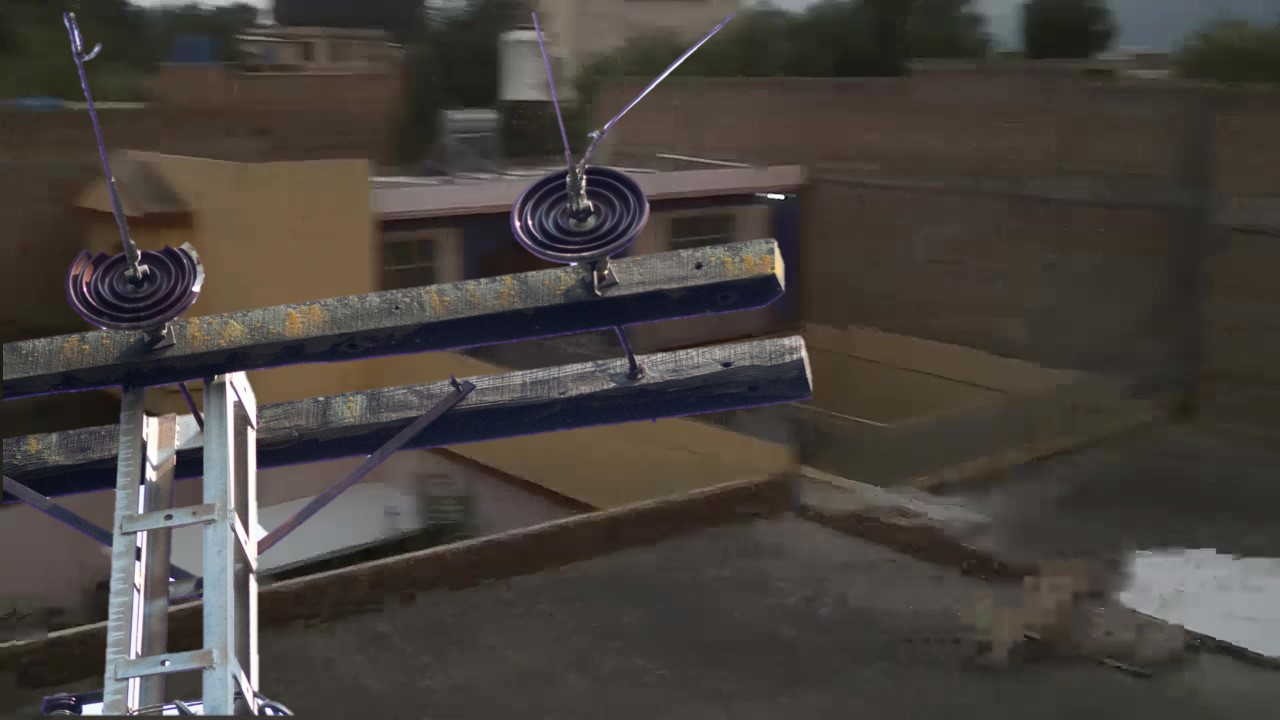defect_disc: (65, 230, 210, 328)
insulator_disc: (506, 167, 657, 261)
